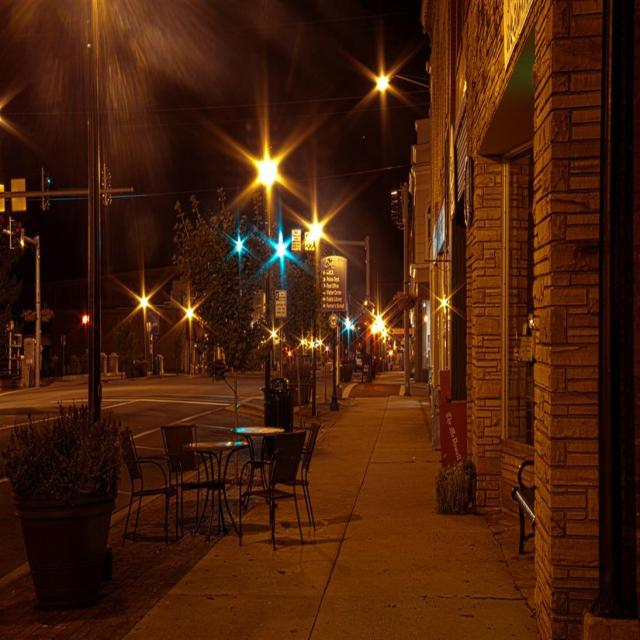Table: (183, 425, 251, 550), (233, 414, 295, 529)
chair: (120, 408, 177, 530), (150, 411, 208, 515)
